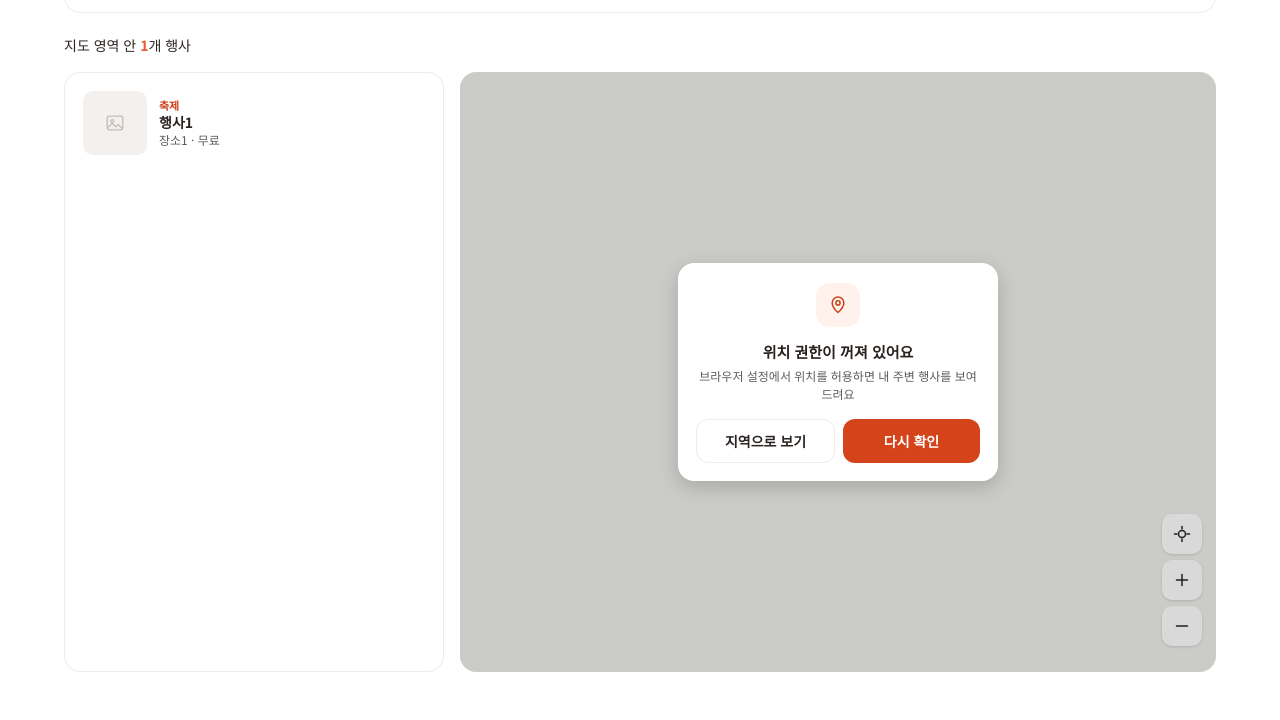
Test: MapPage › 위치 권한이 거부되면 B5 안내를 보여주고 "지역으로 보기"로 닫는다
(page scrolled)
Check: the heading "위치 권한이 꺼져 있어요" is shown, box left=763, top=341, right=913, bottom=362
Click the button "지역으로 보기" at [766, 441], box left=696, top=419, right=835, bottom=463
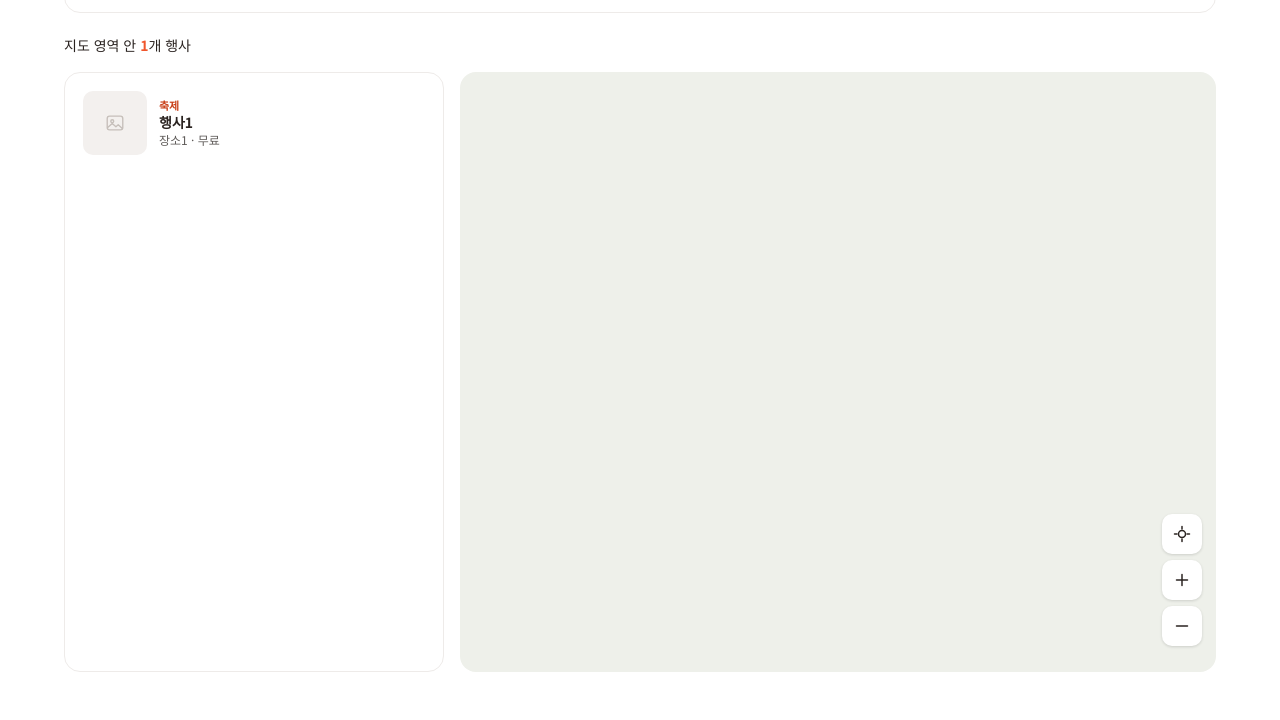
Check: the heading "위치 권한이 꺼져 있어요" is gone
